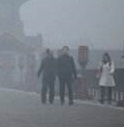person: (55, 45, 80, 108), (37, 47, 61, 107), (96, 52, 116, 107)
